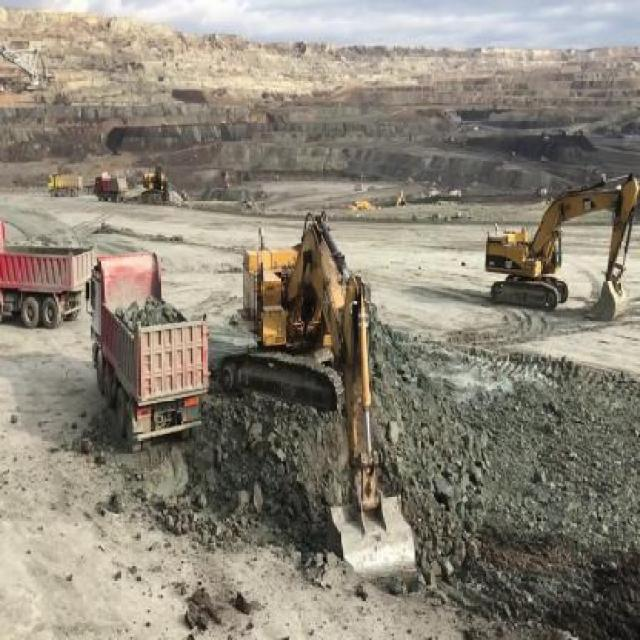dump_truck: (83, 245, 208, 449), (0, 234, 92, 328), (94, 180, 126, 203), (45, 175, 81, 192)
excavator: (217, 207, 428, 599), (482, 162, 640, 328)
